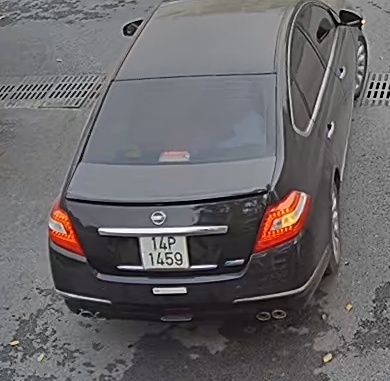vehicle plate: (136, 229, 191, 273)
